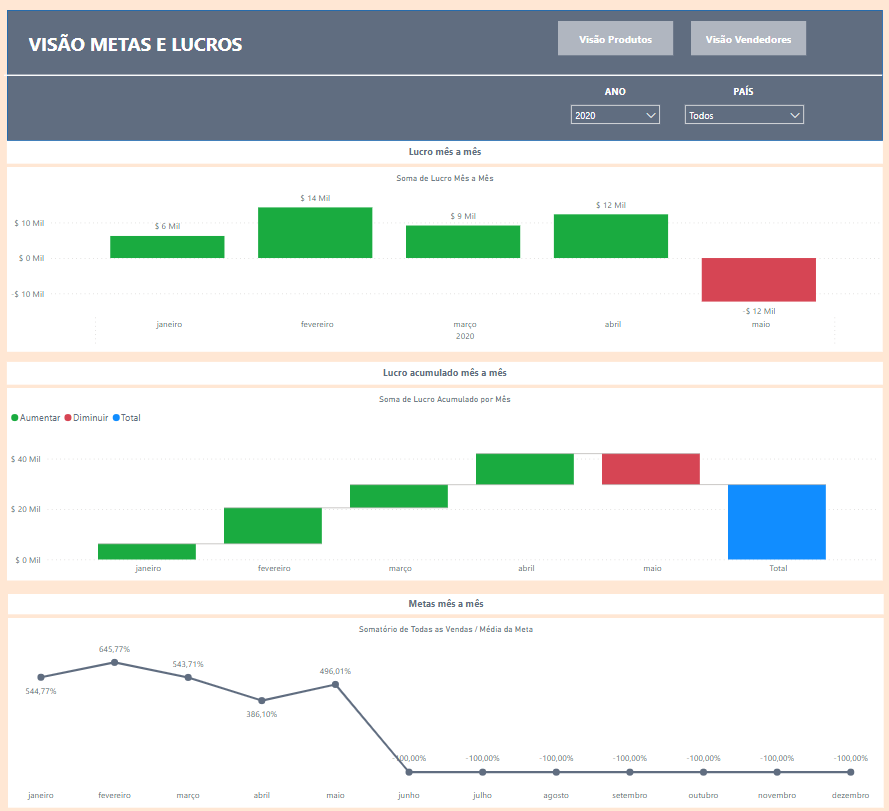

What the dashboard file says about the page in this screenshot:
{"tool":"powerbi","page":{"name":"Visão Metas e Lucros","canvas":[1280,1150],"ordinal":1},"visuals":[{"type":"clusteredColumnChart","title":"Soma de Lucro Mês a Mês","fields":{"Y":["Sum(tabela_final.Lucro)"],"Category":["tabela_final.OrderDate.Variation.Hierarquia de datas.Ano","tabela_final.OrderDate.Variation.Hierarquia de datas.Mês"]},"box":[15.6,224.3,1251,264],"z":0},{"type":"waterfallChart","title":"Soma de Lucro Acumulado por Mês","fields":{"Category":["tabela_final.OrderDate.Variation.Hierarquia de datas.Mês"],"Y":["Sum(tabela_final.Lucro)"]},"box":[15.6,540.3,1251,275.3],"z":1000},{"type":"shape","box":[15.6,0,1251,187],"z":2000},{"type":"slicer","title":"Ano","fields":{"Values":["tabela_final.OrderDate.Variation.Hierarquia de datas.Ano"]},"box":[811.8,125.5,147.3,47.3],"z":3000},{"type":"slicer","title":"País","fields":{"Values":["tabela_final.Country_Region"]},"box":[973.6,125.5,190,49.1],"z":4000},{"type":"textbox","box":[41.8,24.5,410,47.3],"z":5000},{"type":"textbox","box":[15.6,186.4,1251,31.7],"z":6000},{"type":"textbox","box":[15.6,502.5,1251,31.7],"z":7000},{"type":"lineChart","title":"Somatório de Todas as Vendas / Média da Meta","fields":{"Y":["tabela_final.Delta_venda"],"Category":["tabela_final.TargetMonth.Variation.Hierarquia de datas.Mês"]},"box":[17.2,868.8,1251,271.2],"z":8000},{"type":"textbox","box":[17.2,833.8,1251,28.8],"z":9000},{"type":"textbox","box":[986.4,102.7,164.5,30],"z":10000},{"type":"textbox","box":[821.8,102.7,126.4,30],"z":11000},{"type":"shape","box":[11.8,51.8,1254.5,83.6],"z":12000},{"type":"actionButton","box":[802.7,16.4,164.5,49.1],"z":13000},{"type":"actionButton","box":[992.7,16.4,164.5,49.1],"z":14000}]}

Visuals, with their boxes in screenshot pixels (x1, y1, x2, y2), scaled from the page's 1280x1150 canvas onto the 889x811 screenshot:
"Soma de Lucro Mês a Mês" clusteredColumnChart: x1=11, y1=158, x2=880, y2=344
"Soma de Lucro Acumulado por Mês" waterfallChart: x1=11, y1=381, x2=880, y2=575
shape: x1=11, y1=0, x2=880, y2=132
"Ano" slicer: x1=564, y1=89, x2=666, y2=122
"País" slicer: x1=676, y1=89, x2=808, y2=123
textbox: x1=29, y1=17, x2=314, y2=51
textbox: x1=11, y1=131, x2=880, y2=154
textbox: x1=11, y1=354, x2=880, y2=377
"Somatório de Todas as Vendas / Média da Meta" lineChart: x1=12, y1=613, x2=881, y2=804
textbox: x1=12, y1=588, x2=881, y2=608
textbox: x1=685, y1=72, x2=799, y2=94
textbox: x1=571, y1=72, x2=659, y2=94
shape: x1=8, y1=37, x2=879, y2=95
actionButton: x1=558, y1=12, x2=672, y2=46
actionButton: x1=689, y1=12, x2=804, y2=46
